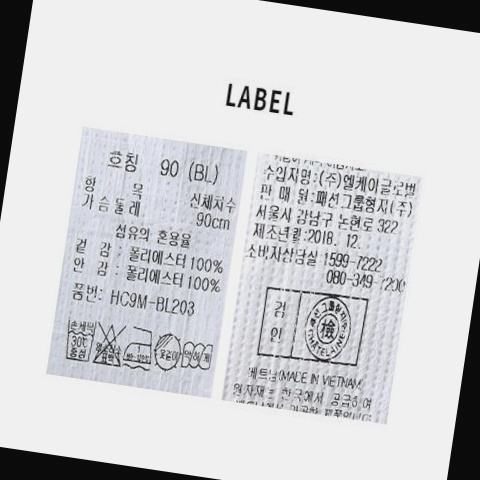DN_bleach: (92, 321, 129, 369)
hand_wash: (63, 315, 100, 365)
iron_low: (121, 325, 156, 370)
line_dry_in_shade: (151, 329, 185, 376)
wring: (180, 336, 216, 376)
